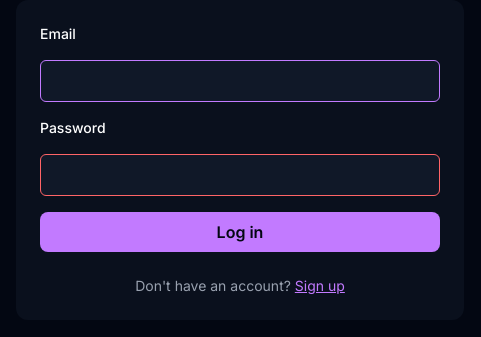
Test case: LoginForm › disables the submit button and shows the loading label while the request is in flight
Type "alice@example.com" into the field labelled "Email".
click(240, 81); type("alice@example.com")  # box [40,60,440,102]
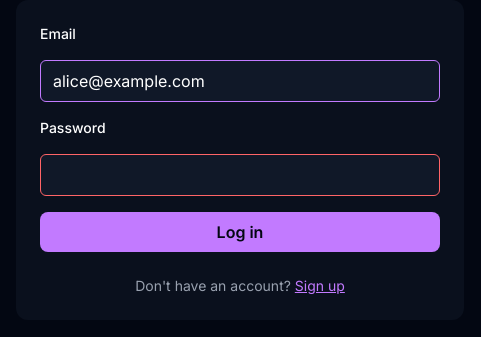
Type "password123" into the password field labelled "Password".
click(240, 175); type("password123")  # box [40,154,440,196]
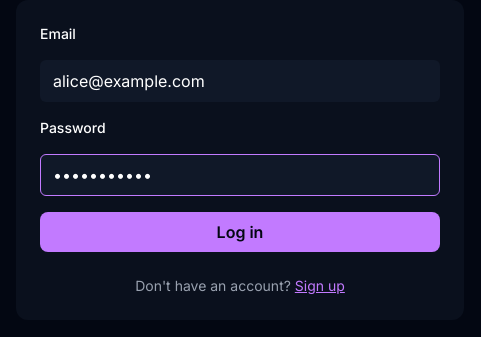
Click the button "Log in".
click(240, 232)  # box [40,212,440,252]
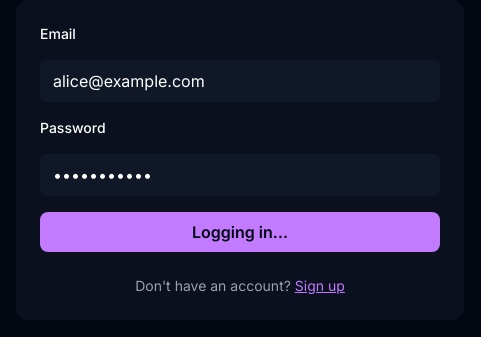
Expected: the button "Logging in…" is disabled, [40,212,440,252]
